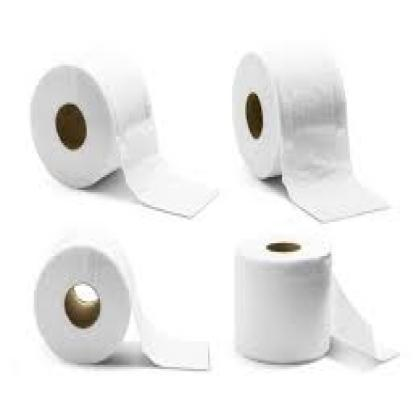tissue: (26, 44, 216, 224), (228, 41, 393, 223), (26, 233, 157, 374), (230, 232, 350, 375)
